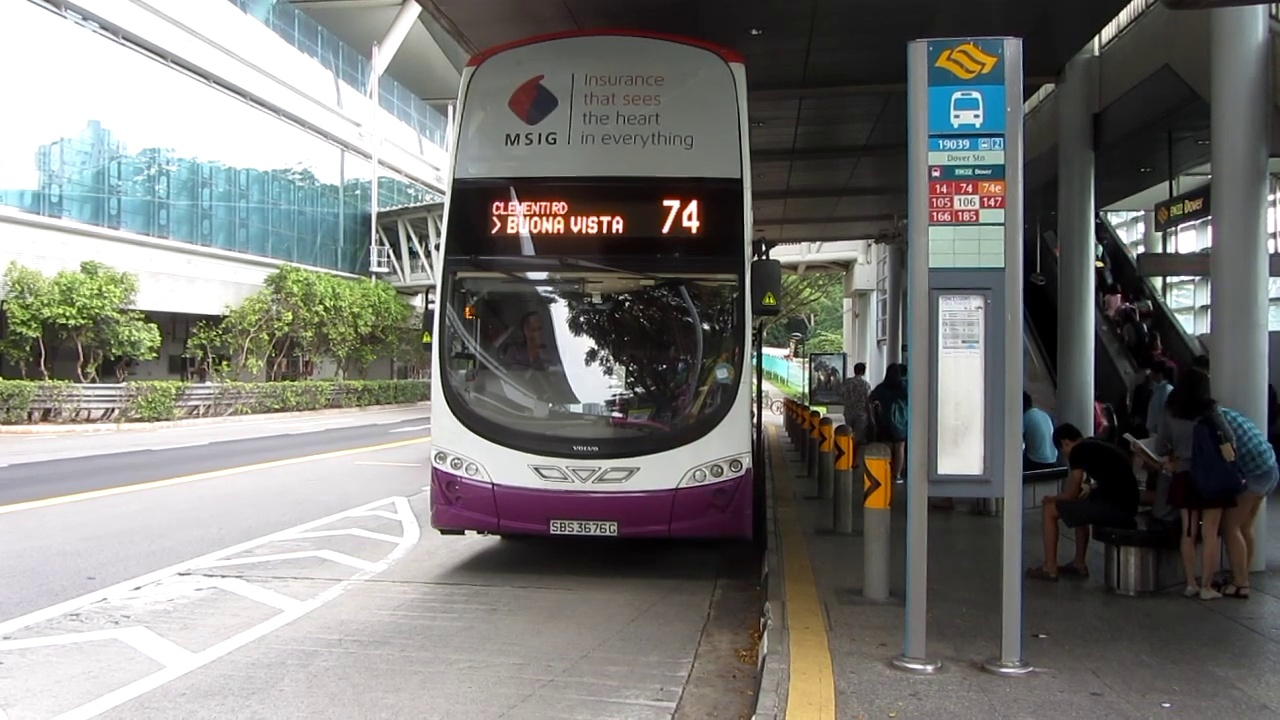bus panel: (485, 196, 706, 239)
